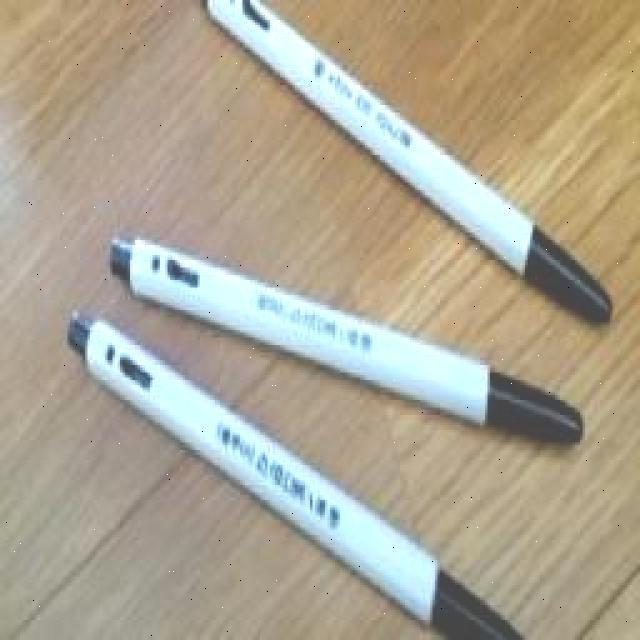pen: (68, 305, 526, 640), (200, 0, 613, 330), (110, 230, 583, 450)
